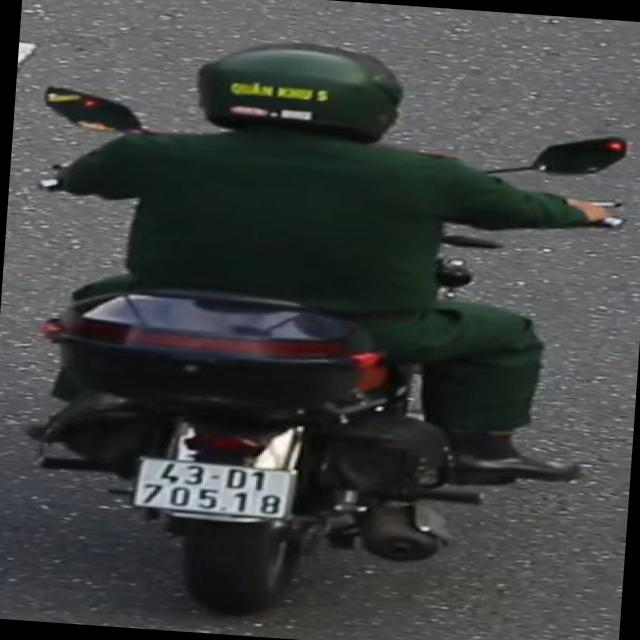LP: (127, 451, 302, 527)
helmet: (176, 33, 417, 162)
